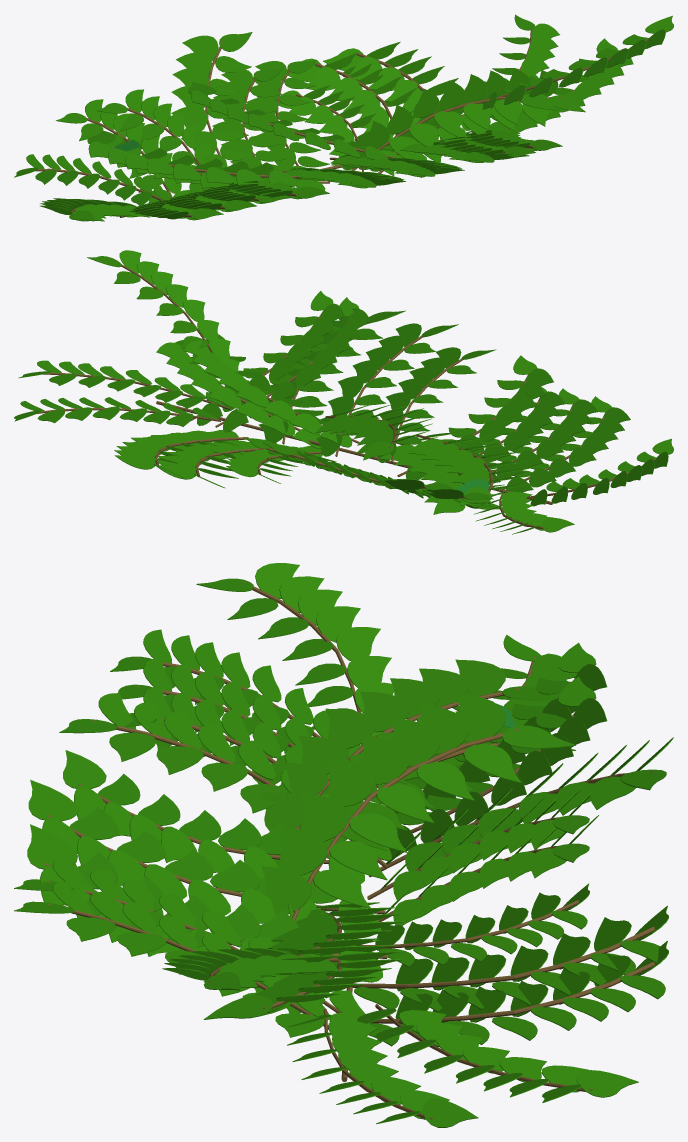
The model's file is Plantaobstaculo.fbx.
The picture shows the model from 3 angles, top to bottom: view 1: azimuth 30°, elevation 25°; view 2: azimuth 150°, elevation 25°; view 3: azimuth 270°, elevation 25°; orthographic projection. The views are drawn at different scales.
Visible parts, largest first — view 1: Cilindro.001; view 2: Cilindro.001; view 3: Cilindro.001.
Part boxes in pixels (x1,y1,x2,y2): Cilindro.001: (14,14,673,221); Cilindro.001: (14,250,673,534); Cilindro.001: (14,563,673,1127).
Bounding box in the file's own units: 5654 × 1087 × 3035.
